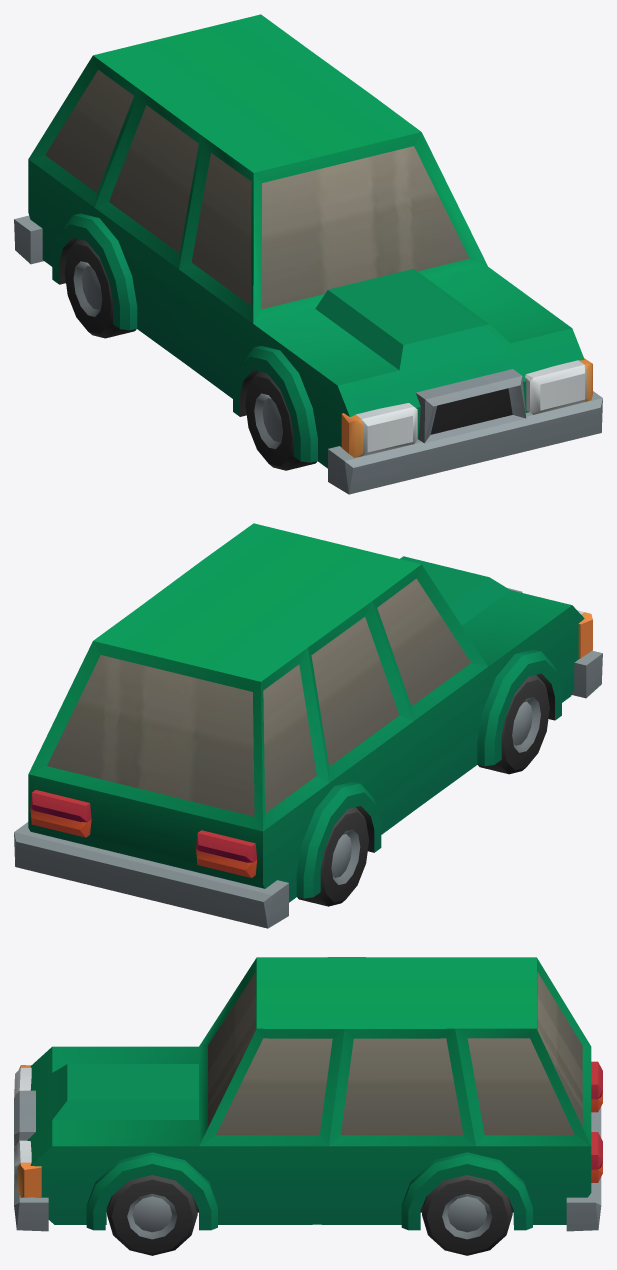
Rendered from kombi.glb.
The picture shows the model from 3 angles, top to bottom: view 1: azimuth 30°, elevation 25°; view 2: azimuth 150°, elevation 25°; view 3: azimuth 270°, elevation 25°; orthographic projection. The views are drawn at different scales.
Parts seen in each view (by area): view 1: Cube.13728, car_stationwagon_wheel_front_right, car_stationwagon_wheel_rear_right; view 2: Cube.13728, car_stationwagon_wheel_rear_right, car_stationwagon_wheel_front_right; view 3: Cube.13728, car_stationwagon_wheel_front_left, car_stationwagon_wheel_rear_left.
Boxes of the visible parts, <box> form: Cube.13728: <box>14,14,602,494</box>; car_stationwagon_wheel_front_right: <box>245,371,317,470</box>; car_stationwagon_wheel_rear_right: <box>64,239,136,338</box>; Cube.13728: <box>14,523,602,928</box>; car_stationwagon_wheel_rear_right: <box>297,807,369,906</box>; car_stationwagon_wheel_front_right: <box>478,675,549,774</box>; Cube.13728: <box>14,957,602,1231</box>; car_stationwagon_wheel_front_left: <box>107,1175,197,1255</box>; car_stationwagon_wheel_rear_left: <box>422,1175,512,1255</box>.
Size of the model in its own units: 0.4189 by 0.3688 by 0.9381.
Materials: 1 (1 with a texture image).
